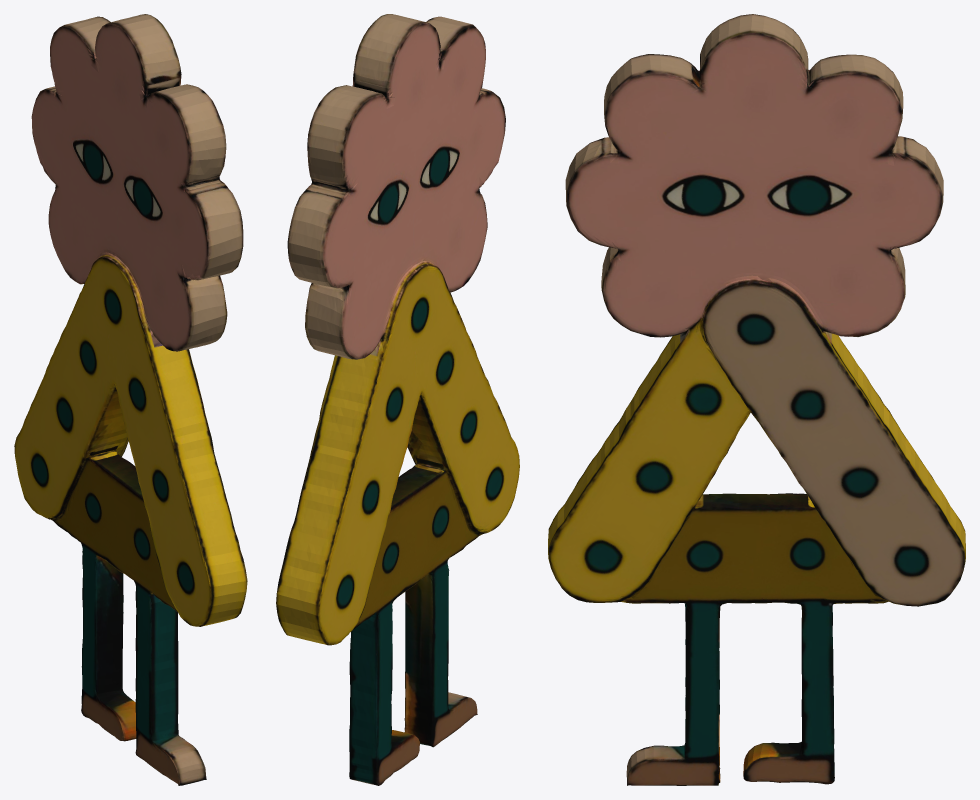
File: flowerred pal 1.glb
3 views of the same model, side by side, from view 1: azimuth 30°, elevation 25°; view 2: azimuth 150°, elevation 25°; view 3: azimuth 270°, elevation 25° (orthographic). The views are drawn at different scales.
Visible parts, largest first — view 1: tripo_node_c04f4e1c-7918-4613-9e00-d9d7d86bd9f1; view 2: tripo_node_c04f4e1c-7918-4613-9e00-d9d7d86bd9f1; view 3: tripo_node_c04f4e1c-7918-4613-9e00-d9d7d86bd9f1.
Boxes of the visible parts, <box> form: tripo_node_c04f4e1c-7918-4613-9e00-d9d7d86bd9f1: <box>14,14,247,785</box>; tripo_node_c04f4e1c-7918-4613-9e00-d9d7d86bd9f1: <box>276,14,519,785</box>; tripo_node_c04f4e1c-7918-4613-9e00-d9d7d86bd9f1: <box>548,14,965,785</box>.
Size of the model in its own units: 0.069 by 0.9999 by 0.4984.
1 material, 1 textured.
